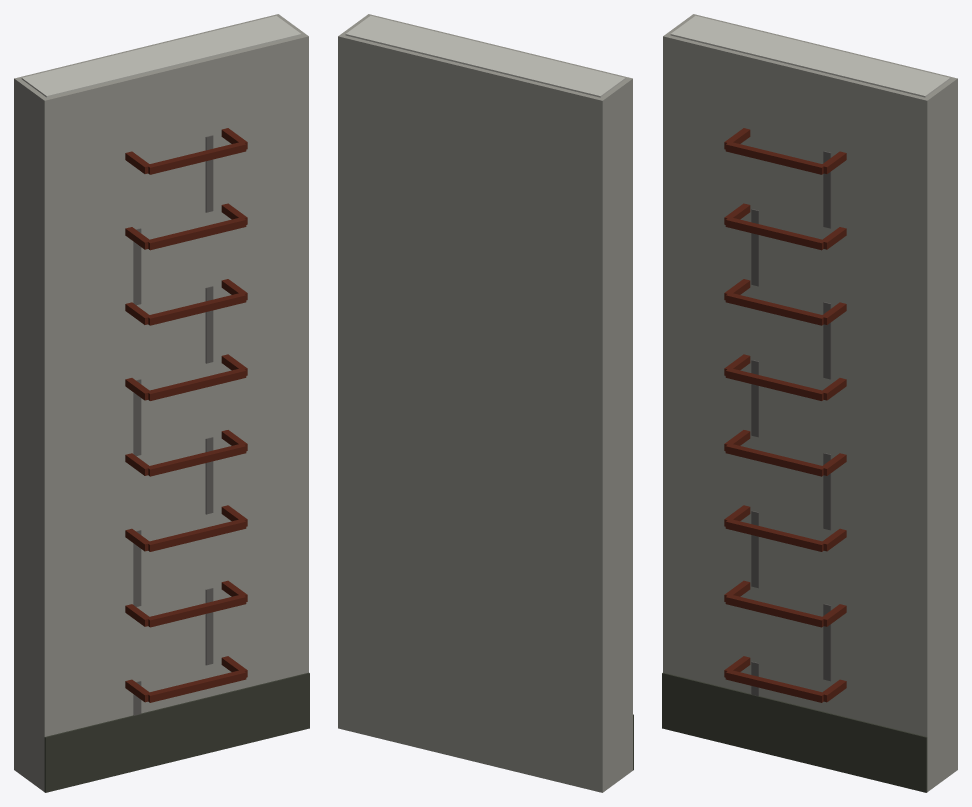
Rendered from tunnel_ladder.glb.
3 renders of one model, left to right at view 1: azimuth 30°, elevation 25°; view 2: azimuth 150°, elevation 25°; view 3: azimuth 330°, elevation 25°, orthographic.
Visible parts, largest first — view 1: tunnel_ladder_conc, tunnel_ladder_green, tunnel_ladder_rustbar, tunnel_ladder_cut, tunnel_ladder_conc_d; view 2: tunnel_ladder_conc, tunnel_ladder_cut; view 3: tunnel_ladder_conc, tunnel_ladder_green, tunnel_ladder_rustbar, tunnel_ladder_cut, tunnel_ladder_conc_d.
Part boxes in pixels (x1,y1,x2,y2): tunnel_ladder_conc: (14, 14, 308, 791); tunnel_ladder_green: (44, 672, 309, 792); tunnel_ladder_rustbar: (125, 128, 247, 702); tunnel_ladder_cut: (21, 15, 301, 97); tunnel_ladder_conc_d: (133, 135, 213, 715); tunnel_ladder_conc: (338, 14, 632, 792); tunnel_ladder_cut: (345, 15, 625, 97); tunnel_ladder_conc: (663, 14, 957, 791); tunnel_ladder_green: (662, 672, 927, 792); tunnel_ladder_rustbar: (724, 128, 846, 702); tunnel_ladder_cut: (670, 15, 950, 97); tunnel_ladder_conc_d: (751, 151, 831, 696).
Bounding box in the file's own units: 1.1 × 2.76 × 0.374.
